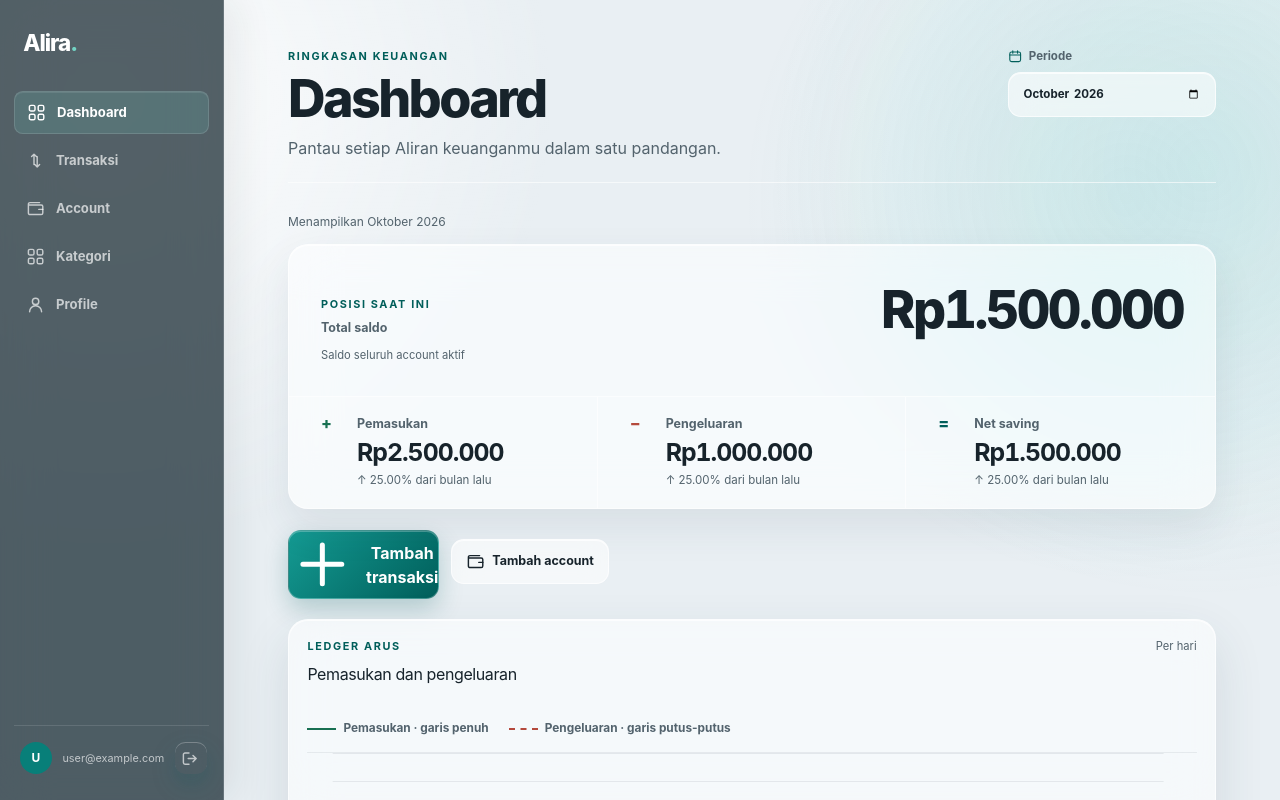
DashboardPage › opens Quick Add from the dashboard and focuses the amount field
Click the button "Tambah transaksi".
click(364, 565)  # box [288, 530, 439, 599]
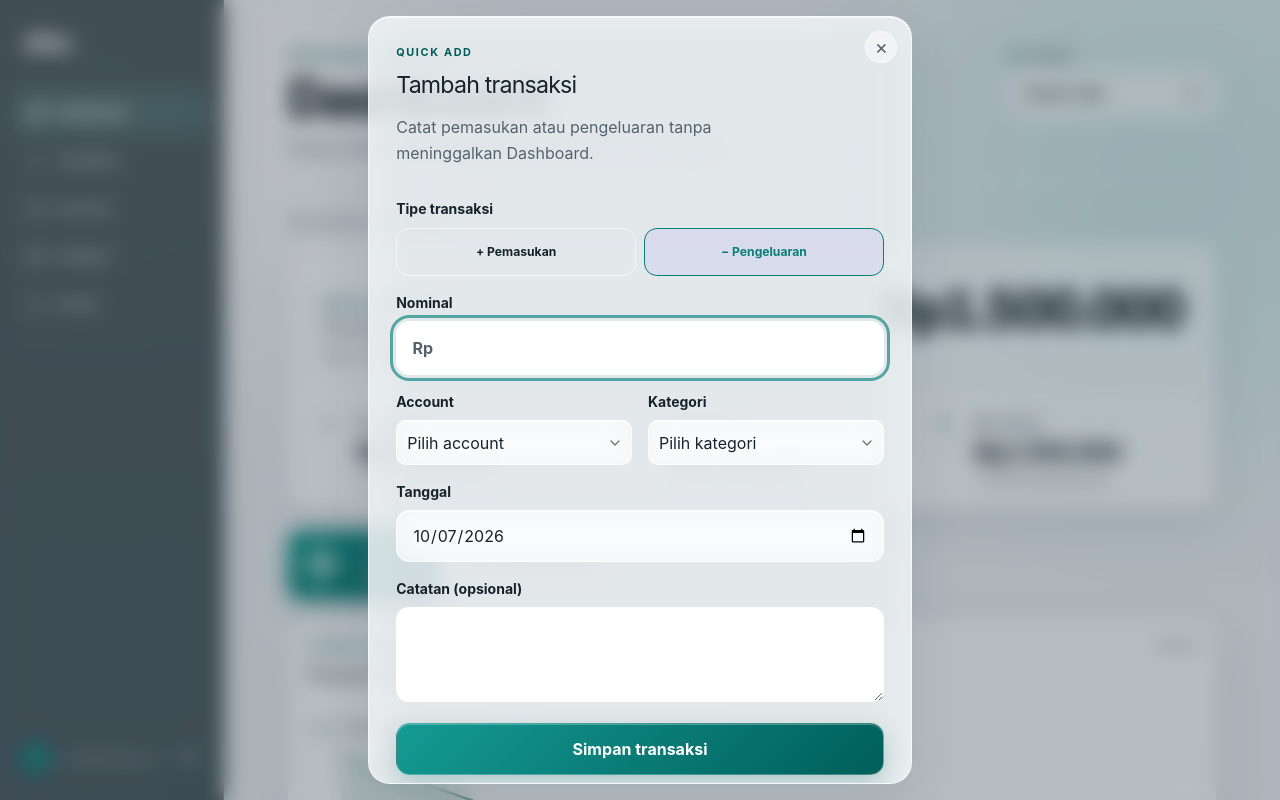
Expected: the dialog shows "Tambah transaksi", [396, 71, 576, 99]
Click the button named "tutup tambah transaksi".
click(881, 47)  # box [865, 31, 897, 63]
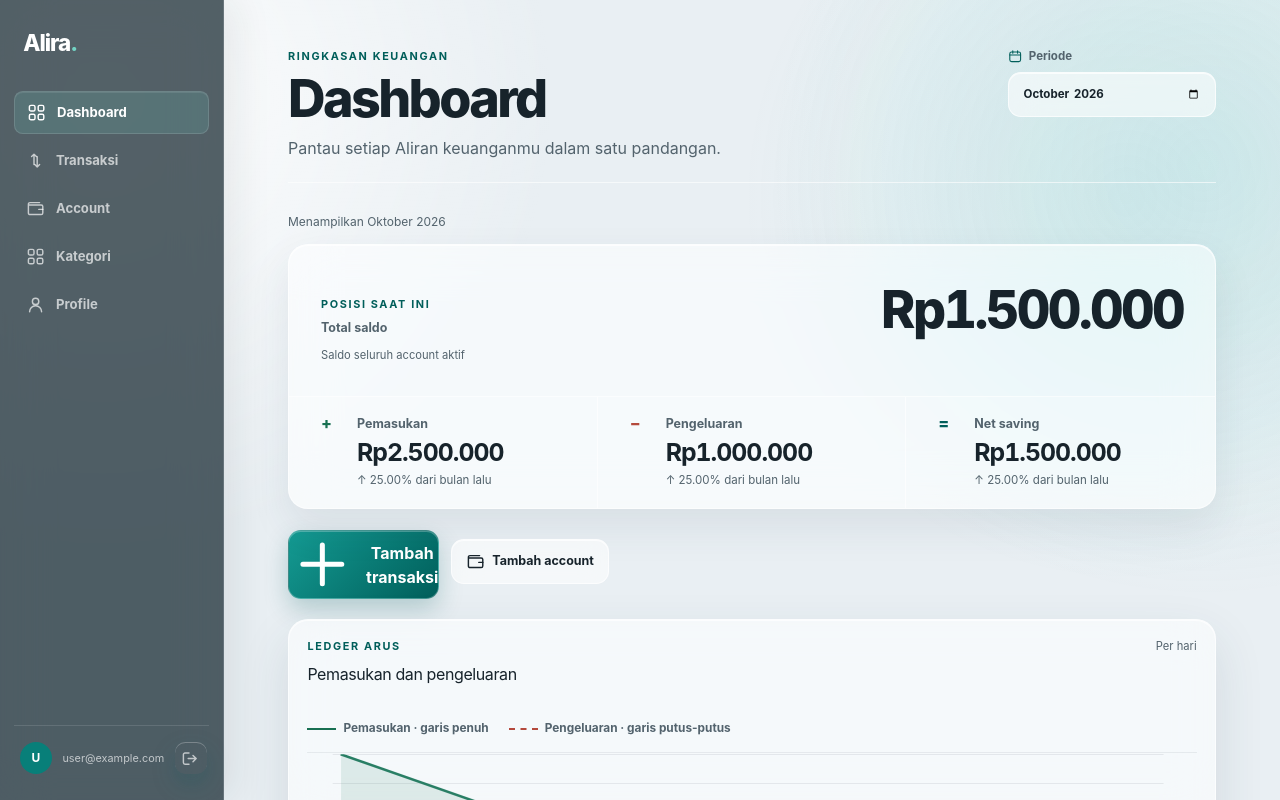
Expected: the dialog is gone
